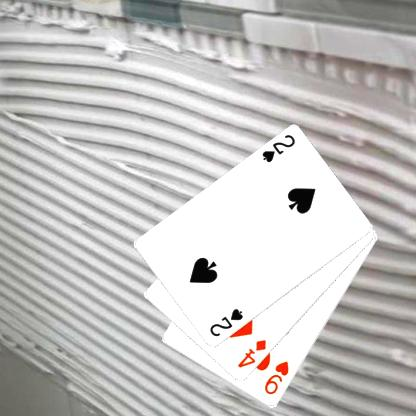2S: (259, 132, 297, 165), (207, 306, 244, 339)
4D: (235, 337, 268, 370)
9H: (262, 359, 290, 396)
